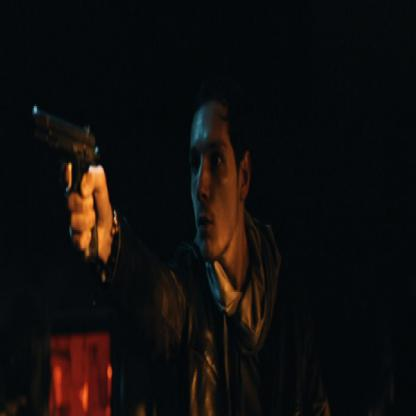Guns: (29, 100, 103, 269)
